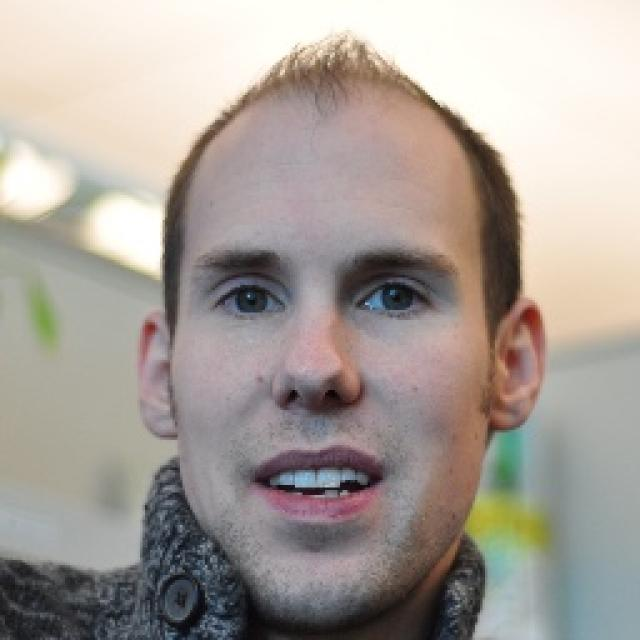earlobe: (487, 388, 524, 432), (143, 398, 180, 441)
eye: (356, 280, 427, 314), (218, 283, 288, 317)
nose: (266, 385, 364, 440)
wholeear: (487, 296, 548, 432), (136, 311, 180, 441)
